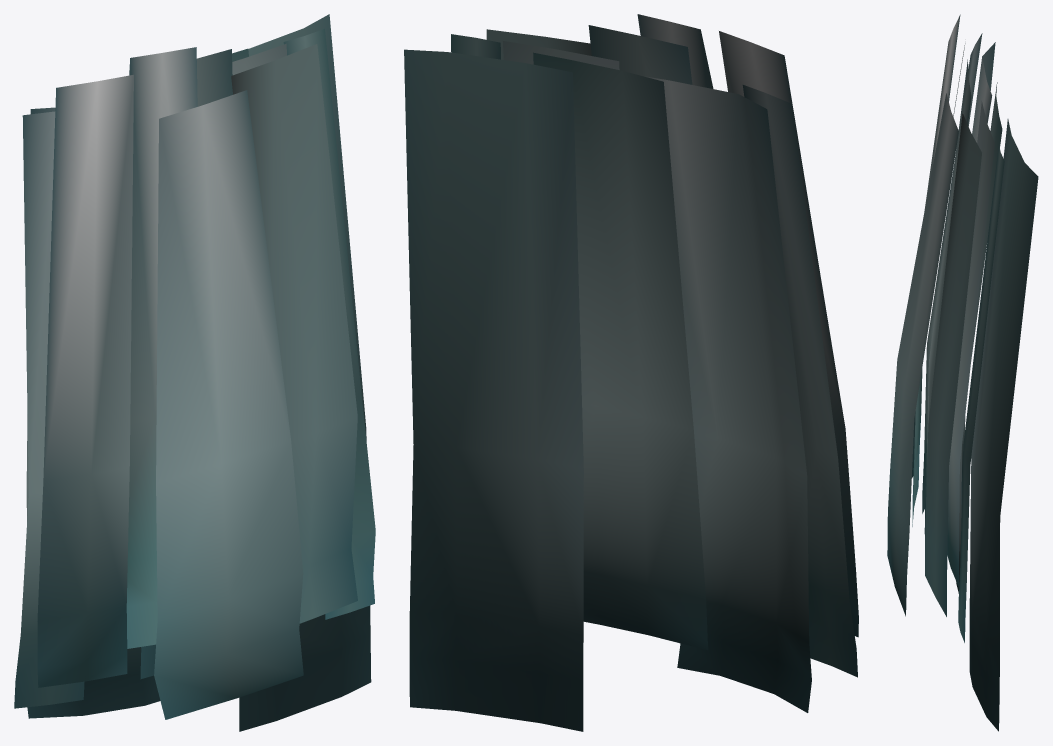
The model's file is WaterFall_V2.fbx.
3 views of the same model, side by side, from view 1: azimuth 30°, elevation 25°; view 2: azimuth 150°, elevation 25°; view 3: azimuth 270°, elevation 25° (orthographic). The views are drawn at different scales.
Parts seen in each view (by area): view 1: WaterFall_V2; view 2: WaterFall_V2; view 3: WaterFall_V2.
Part boxes in pixels (x1=…): WaterFall_V2: x1=14, y1=14, x2=375, y2=731; WaterFall_V2: x1=404, y1=14, x2=858, y2=731; WaterFall_V2: x1=887, y1=14, x2=1038, y2=731.
Bounding box in the file's own units: 2973 × 5061 × 1180.
